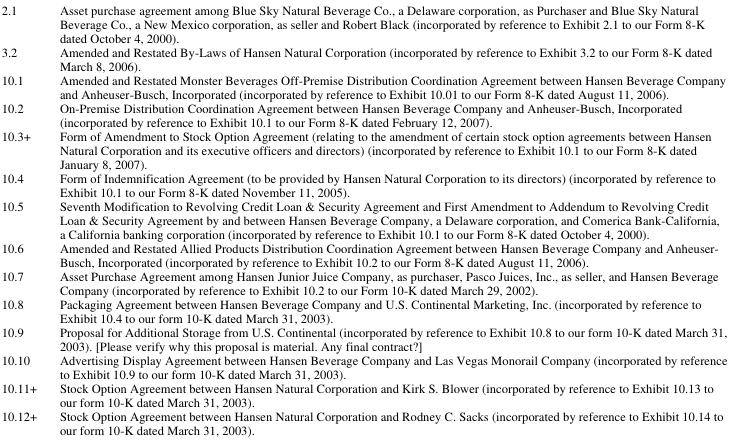table: (0, 0, 726, 437)
table column: (47, 0, 726, 437), (0, 0, 47, 437)
table row: (0, 0, 726, 44), (0, 128, 726, 170), (0, 198, 726, 240), (0, 407, 726, 437), (0, 44, 726, 72), (0, 72, 726, 100), (0, 100, 726, 128), (0, 170, 726, 198), (0, 240, 726, 268), (0, 295, 726, 323), (0, 323, 726, 351), (0, 351, 726, 379), (0, 379, 726, 407), (0, 268, 726, 295)
